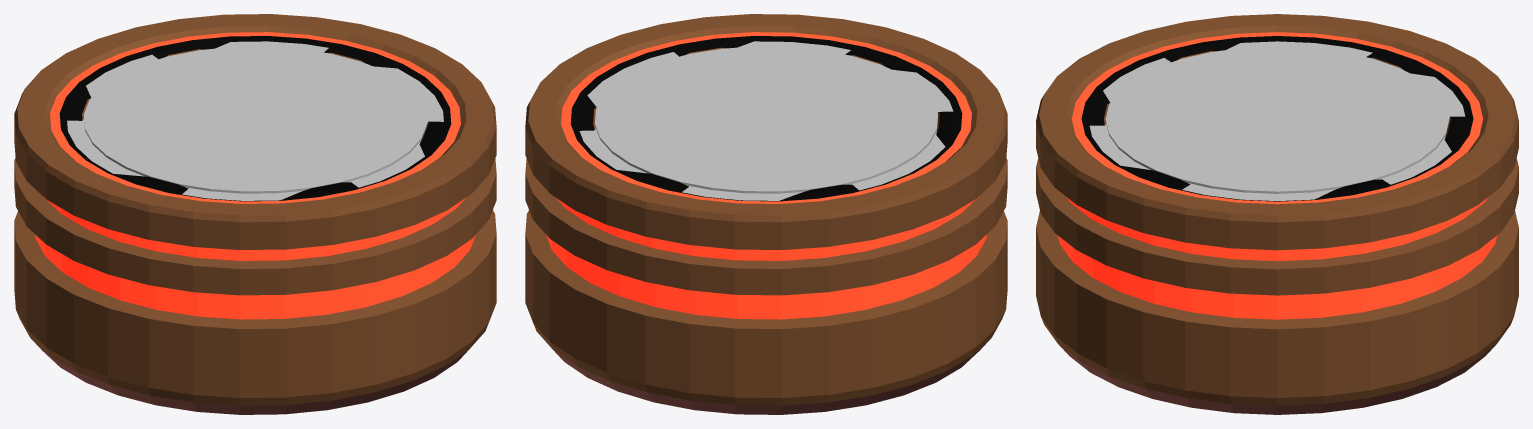
The model's file is HyperpieceEnemy.fbx.
3 renders of one model, left to right at view 1: azimuth 30°, elevation 25°; view 2: azimuth 150°, elevation 25°; view 3: azimuth 270°, elevation 25°, orthographic.
Parts seen in each view (by area): view 1: Cylinder, Cylinder.001; view 2: Cylinder, Cylinder.001; view 3: Cylinder, Cylinder.001.
Part boxes in pixels (x1,y1,x2,y2): Cylinder: (14,14,496,414); Cylinder.001: (67,41,443,200); Cylinder: (525,14,1007,414); Cylinder.001: (579,41,953,200); Cylinder: (1036,14,1518,414); Cylinder.001: (1089,41,1465,201).
Size of the model in its own units: 200 by 110 by 200.
